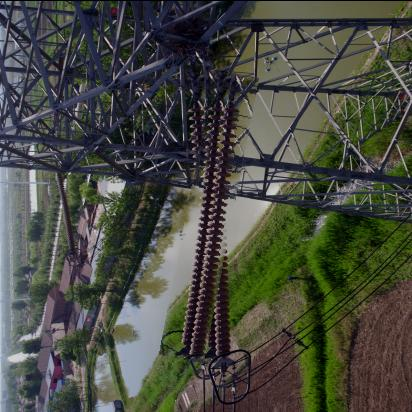insulator: (174, 71, 247, 363)
